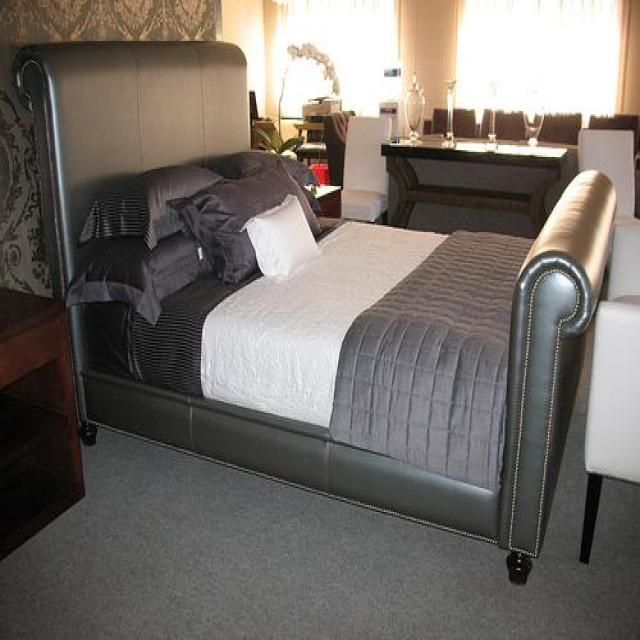bed: (12, 39, 616, 582)
table: (380, 132, 572, 236)
